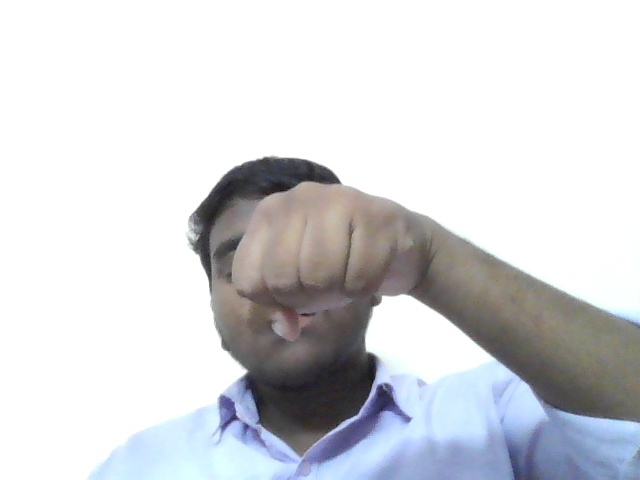Yes: (225, 176, 445, 370)
